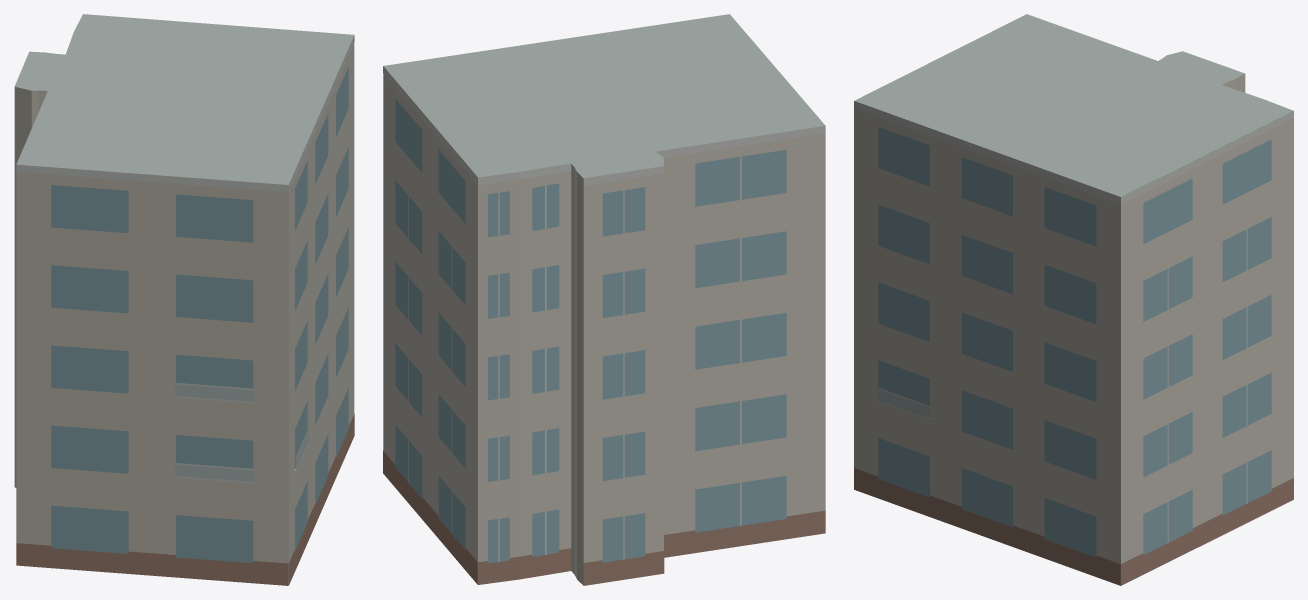
Rendered from survey-upis-32892094.glb.
3 views of the same model, side by side, from view 1: azimuth 30°, elevation 25°; view 2: azimuth 150°, elevation 25°; view 3: azimuth 270°, elevation 25° (orthographic). The views are drawn at different scales.
Visible parts, largest first — view 1: survey-upis-32892094.tmp; view 2: survey-upis-32892094.tmp; view 3: survey-upis-32892094.tmp.
Boxes of the visible parts, x1,y1,x2,y2 form: survey-upis-32892094.tmp: (14,14,354,585); survey-upis-32892094.tmp: (383,14,825,585); survey-upis-32892094.tmp: (854,14,1293,585).
Bounding box in the file's own units: 13.33 × 13.2 × 13.54.
